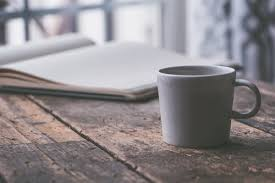cup: (154, 61, 269, 151)
